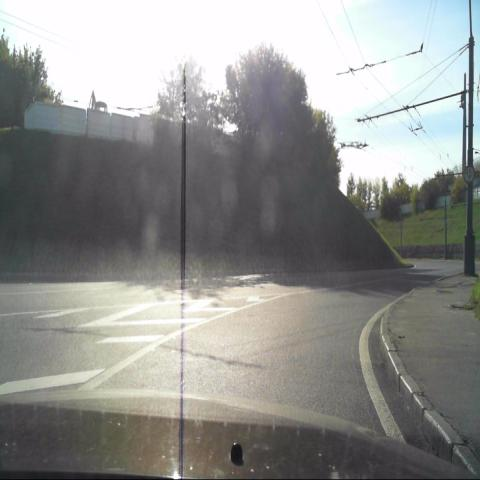3_13: (463, 161, 476, 186)
